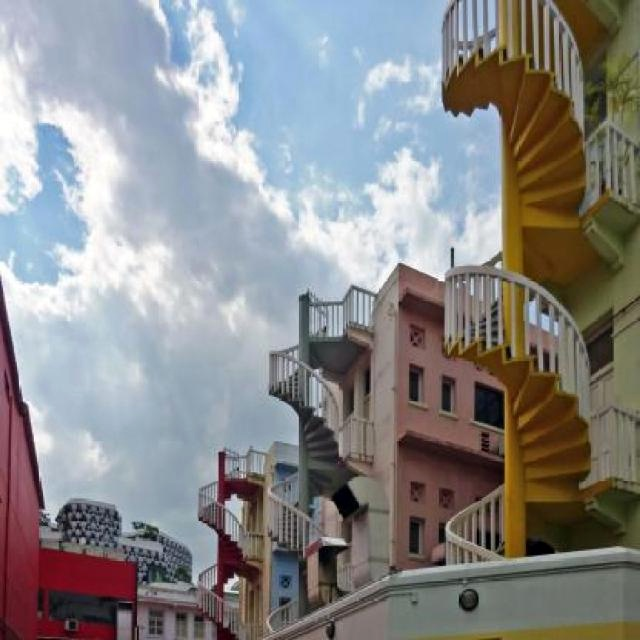stair: (442, 42, 586, 543), (266, 363, 346, 562), (195, 472, 248, 640)
